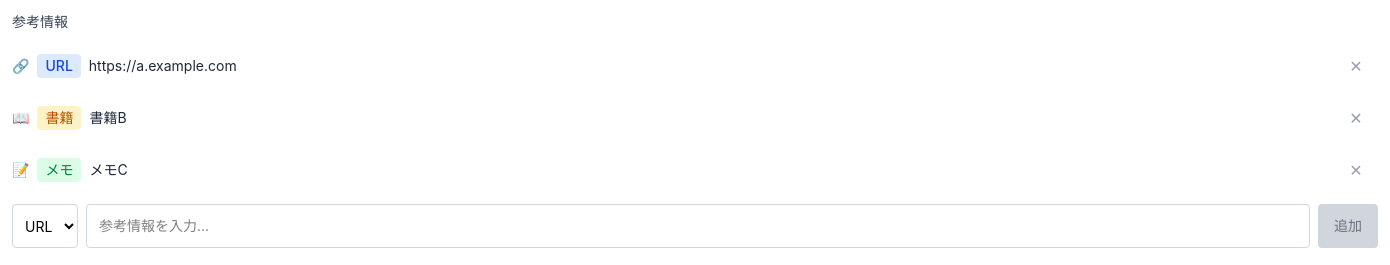
Scenario: ReferenceEditor › インライン編集 › 編集中の行削除によるインデックスずれ › 編集中の行より後ろの行を削除しても編集位置は変わらない
The width and height of the screenshot is (1390, 265).
Note: B（index 1）の編集を開始
Click the button with test id "reference-item-1" at coordinates (108, 118), box [90,96,1326,140]
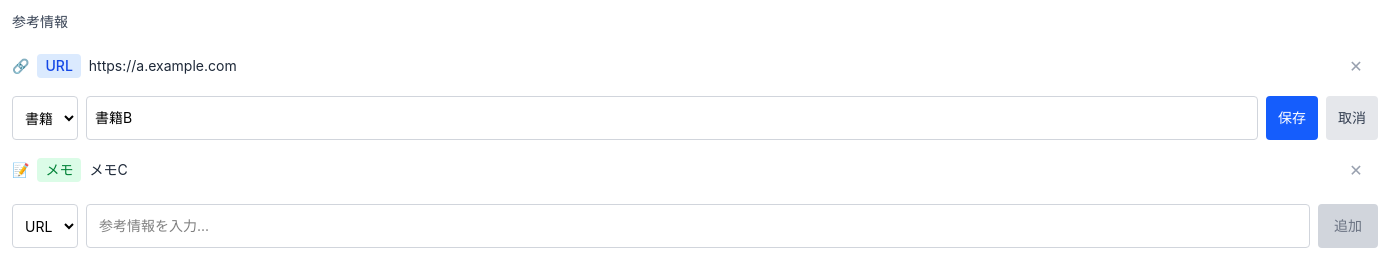
Expected: the field with test id "reference-edit-value-1" holds "書籍B", [86,96,1258,140]
Note: C（index 2）を削除 → 編集対象 B の位置は変わらない
Click the button with test id "reference-delete-2" at coordinates (1356, 170), box [1334,148,1378,192]
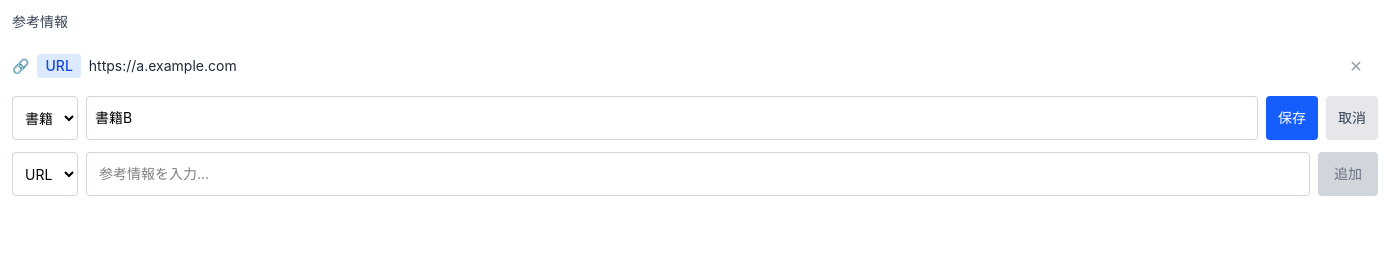
Expected: the field with test id "reference-edit-value-1" holds "書籍B"
Replace the text in the field with test id "reference-edit-value-1" with "書籍B更新" at coordinates (672, 118), box [86,96,1258,140]
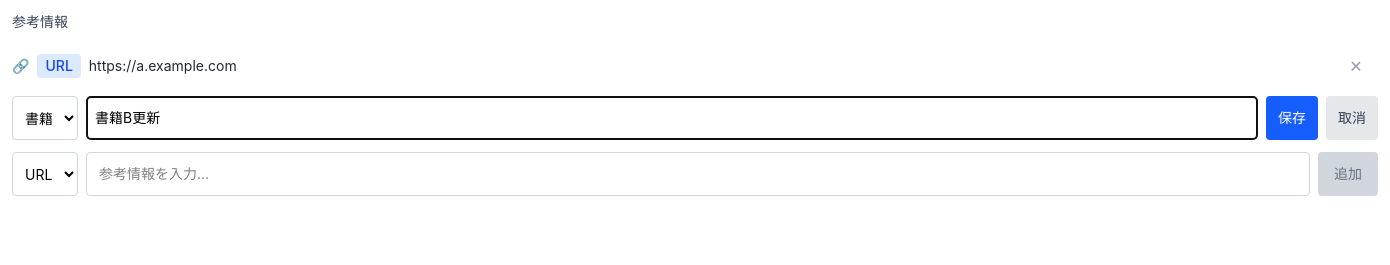
Click the button with test id "reference-edit-save-1" at coordinates (1292, 118), box [1266,96,1318,140]
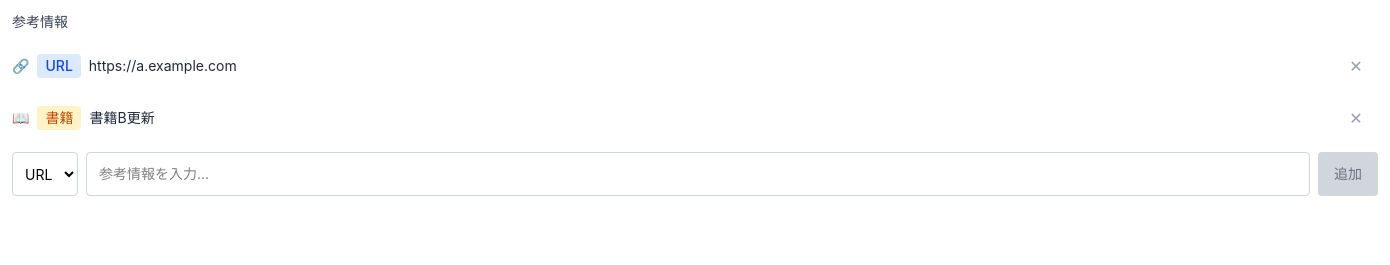
Expected: the button with test id "reference-item-0" reads "https://a.example.com", [89,44,1326,88]
Expected: the button with test id "reference-item-1" reads "書籍B更新", [90,96,1326,140]
